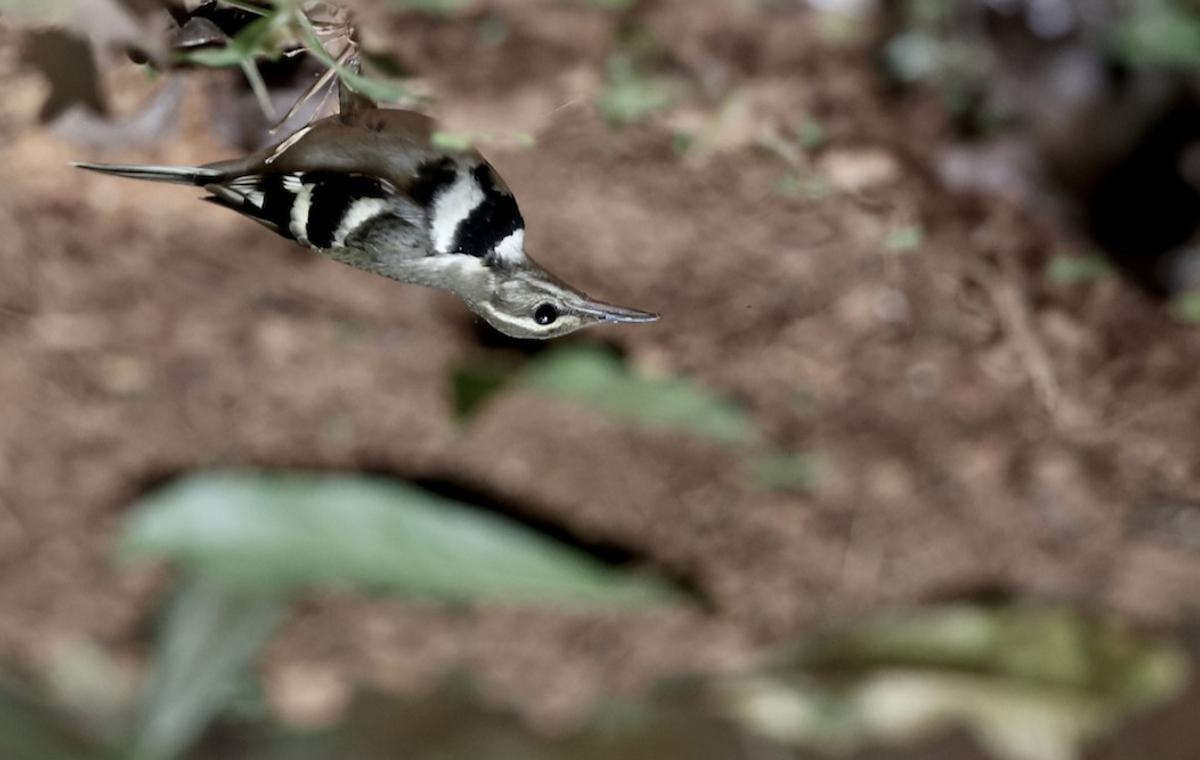wagtail: (91, 80, 685, 347)
